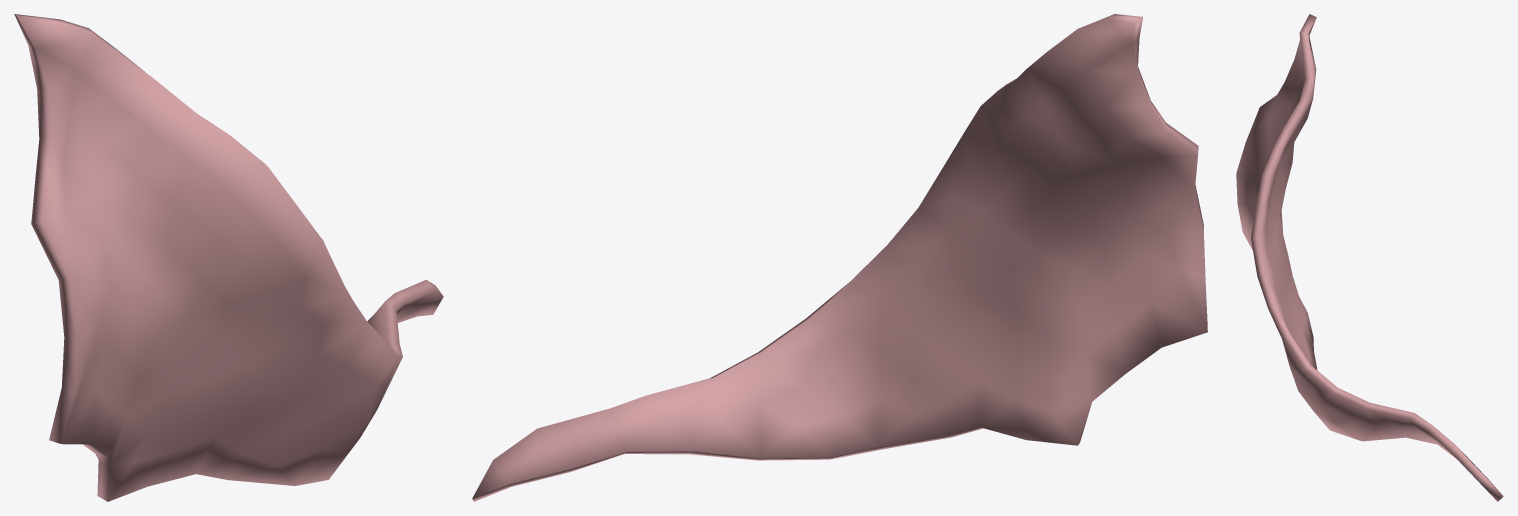
3 views of the same model, side by side, from view 1: azimuth 30°, elevation 25°; view 2: azimuth 150°, elevation 25°; view 3: azimuth 270°, elevation 25° (orthographic). The views are drawn at different scales.
Parts seen in each view (by area): view 1: ZA_c9ff042fda628e07; view 2: ZA_c9ff042fda628e07; view 3: ZA_c9ff042fda628e07.
Boxes of the visible parts, x1=… form: ZA_c9ff042fda628e07: x1=14, y1=14, x2=443, y2=501; ZA_c9ff042fda628e07: x1=472, y1=14, x2=1207, y2=501; ZA_c9ff042fda628e07: x1=1236, y1=14, x2=1503, y2=501.
Size of the model in its own units: 0.0495 by 0.044 by 0.0329.
